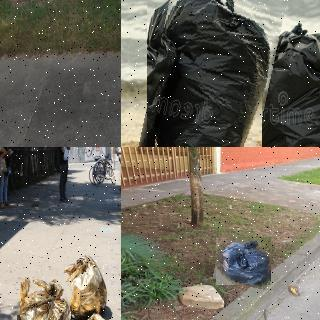Garbage: (134, 0, 274, 147), (242, 23, 320, 147), (214, 235, 273, 287), (63, 253, 109, 319), (18, 279, 72, 320), (82, 311, 110, 320)
